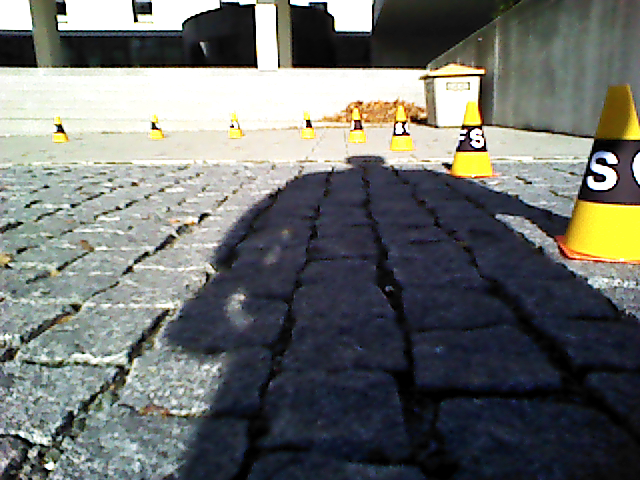yellowcone: (565, 83, 640, 260), (451, 103, 491, 176), (391, 106, 410, 150), (350, 108, 367, 141), (52, 117, 69, 142), (228, 113, 243, 138), (302, 112, 315, 138), (150, 115, 164, 139)
